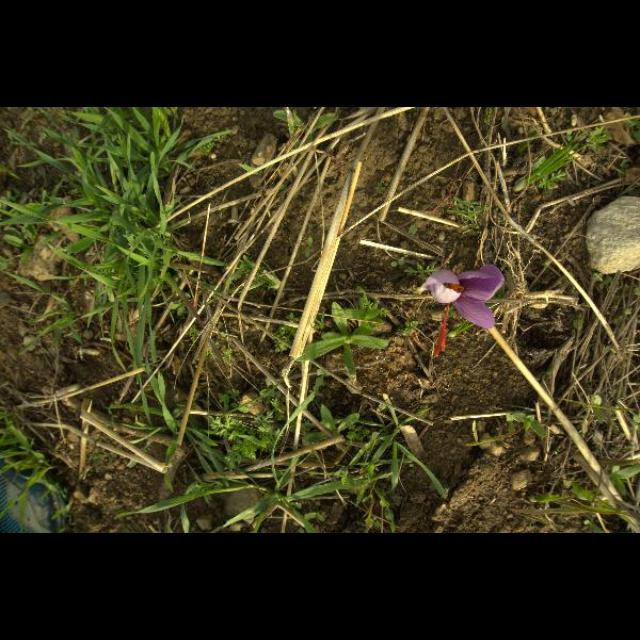flower: (423, 268, 505, 358)
